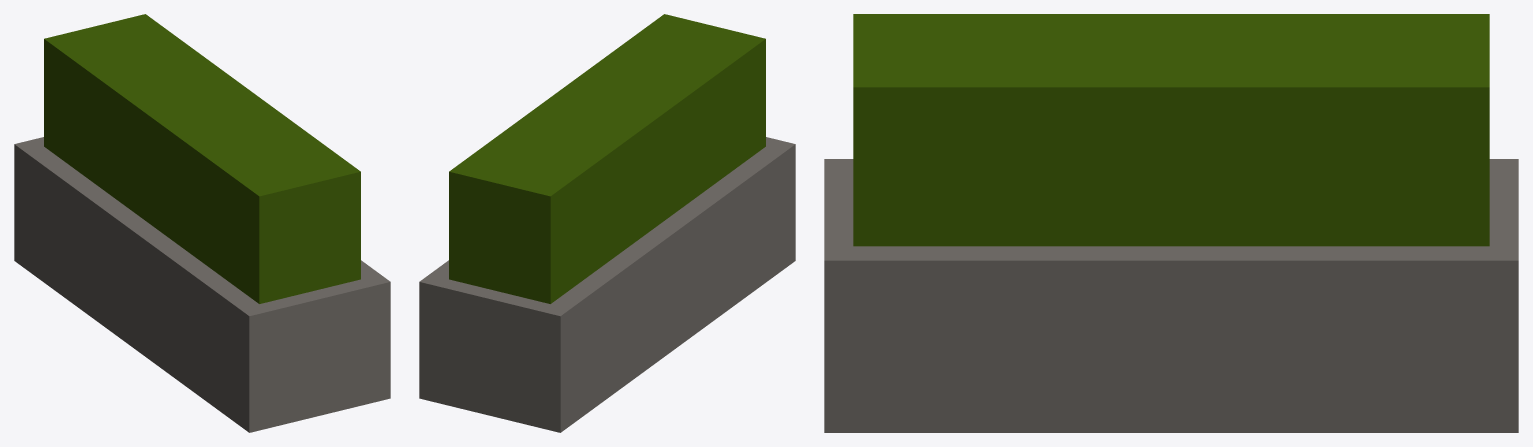
File: dec plant4.FBX
3 views of the same model, side by side, from view 1: azimuth 30°, elevation 25°; view 2: azimuth 150°, elevation 25°; view 3: azimuth 270°, elevation 25° (orthographic). The views are drawn at different scales.
Parts seen in each view (by area): view 1: dec plant4; view 2: dec plant4; view 3: dec plant4.
Part boxes in pixels (<box>): dec plant4: <box>14,14,390,432</box>; dec plant4: <box>419,14,795,432</box>; dec plant4: <box>824,14,1518,432</box>.
Bounding box in the file's own units: 1.45 × 2.2 × 4.18.
